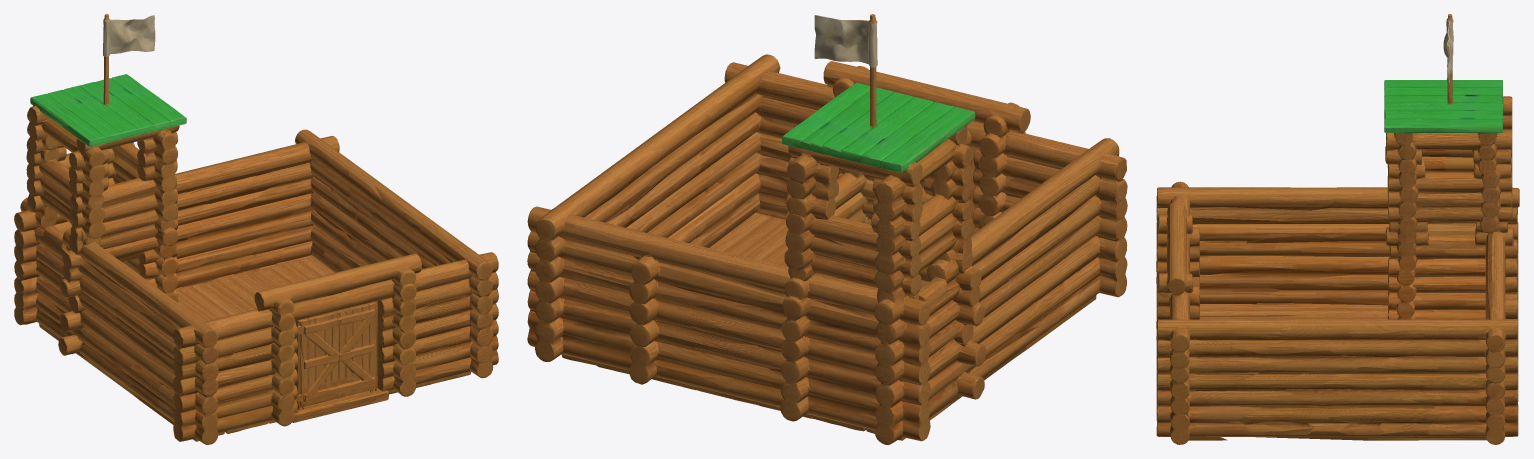
The model's file is logfort.glb.
3 renders of one model, left to right at view 1: azimuth 30°, elevation 25°; view 2: azimuth 150°, elevation 25°; view 3: azimuth 270°, elevation 25°, orthographic. The views are drawn at different scales.
Bounding box in the file's own units: 1.9 × 1.82 × 1.9.
1 material, 1 textured.
